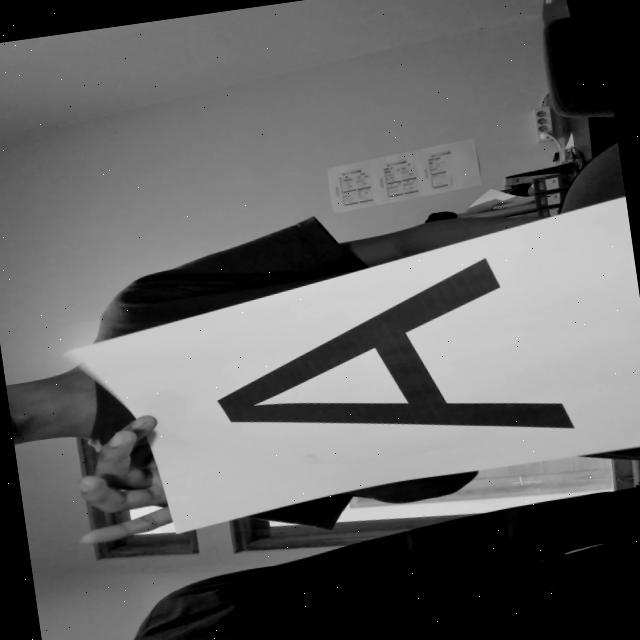a: (192, 236, 588, 496)
